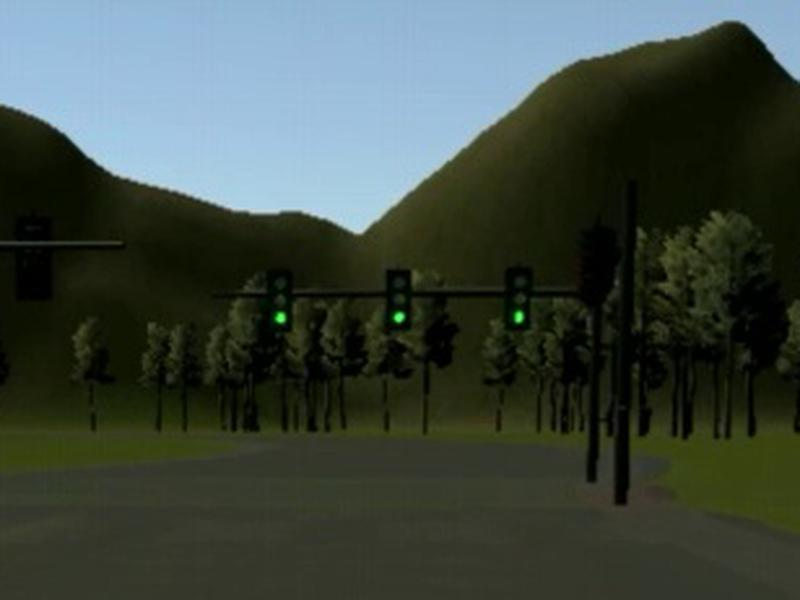Green: (266, 270, 294, 331), (506, 265, 532, 329), (387, 270, 412, 330)
